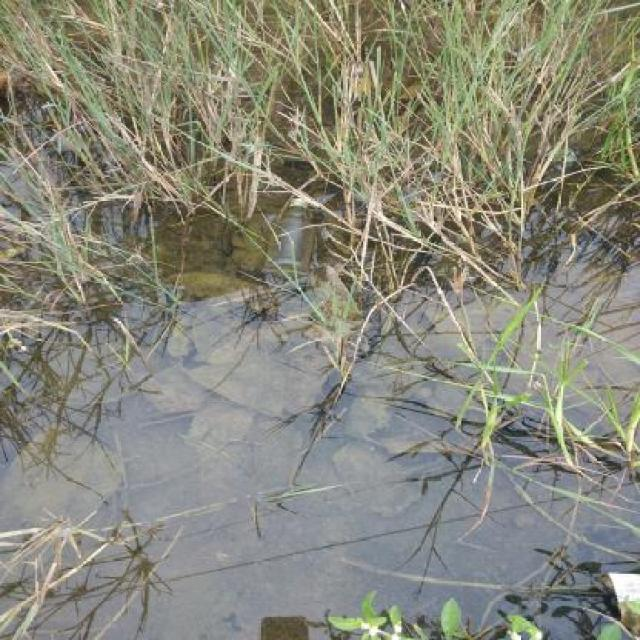garbage: (272, 178, 313, 300), (539, 135, 586, 206)
